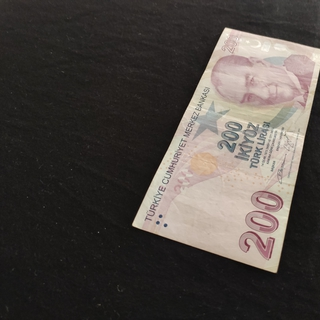200TLFront: (131, 27, 320, 273)
